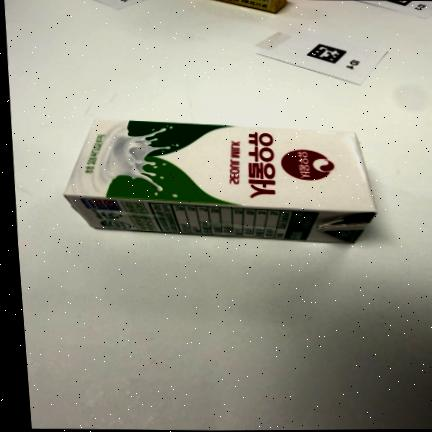milk_green: (63, 117, 376, 244)
